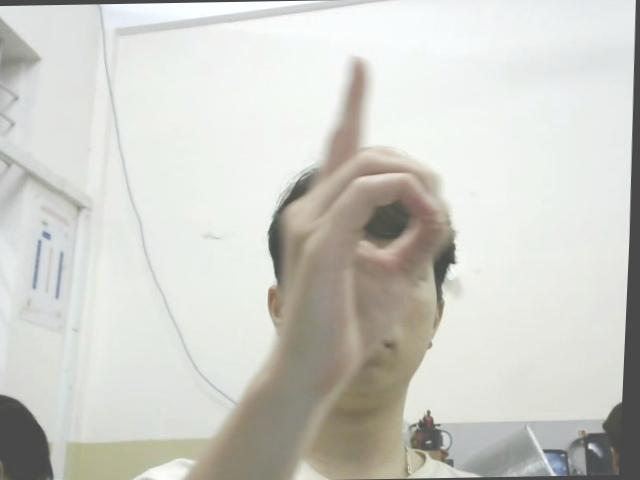D: (268, 48, 466, 376)
